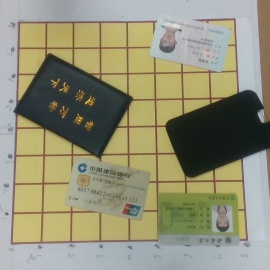card: (65, 154, 150, 221), (155, 191, 240, 249), (150, 13, 231, 73)
wallet: (12, 52, 131, 160), (163, 89, 270, 178)
